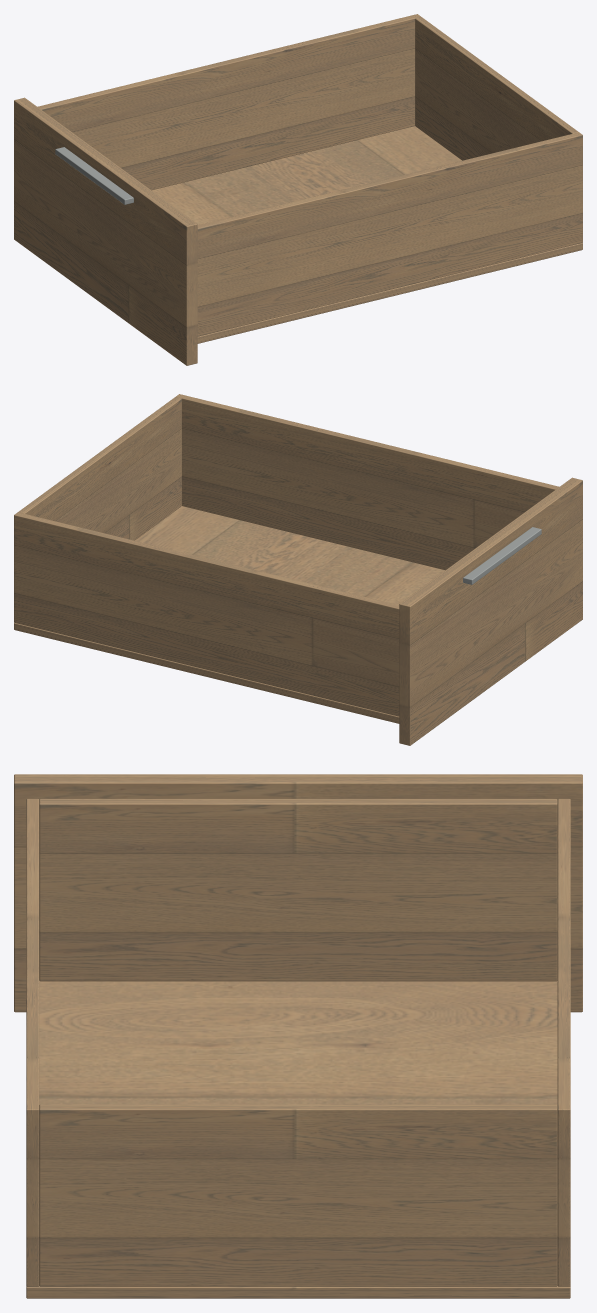
The model's file is island_drawer_2_0.glb.
3 renders of one model, top to bottom at view 1: azimuth 30°, elevation 25°; view 2: azimuth 150°, elevation 25°; view 3: azimuth 270°, elevation 25°, orthographic. The views are drawn at different scales.
Visible parts, largest first — view 1: island_drawer_2_0, island_drawer_2_0_bin_0_side_-1, island_drawer_2_0_front, island_drawer_2_0_bin_0_floor, island_drawer_2_0_pull; view 2: island_drawer_2_0, island_drawer_2_0_bin_0_side_-1, island_drawer_2_0_front, island_drawer_2_0_bin_0_floor, island_drawer_2_0_pull; view 3: island_drawer_2_0, island_drawer_2_0_bin_0_end_-1, island_drawer_2_0_bin_0_floor, island_drawer_2_0_front, island_drawer_2_0_bin_0_side_-1.
Part boxes in pixels (x1=…): island_drawer_2_0: x1=37, y1=14, x2=578, y2=190; island_drawer_2_0_bin_0_side_-1: x1=197, y1=132, x2=582, y2=336; island_drawer_2_0_front: x1=14, y1=97, x2=197, y2=365; island_drawer_2_0_bin_0_floor: x1=152, y1=126, x2=582, y2=343; island_drawer_2_0_pull: x1=55, y1=147, x2=133, y2=204; island_drawer_2_0: x1=14, y1=397, x2=399, y2=716; island_drawer_2_0_bin_0_side_-1: x1=176, y1=394, x2=559, y2=570; island_drawer_2_0_front: x1=399, y1=477, x2=582, y2=745; island_drawer_2_0_bin_0_floor: x1=14, y1=506, x2=444, y2=723; island_drawer_2_0_pull: x1=463, y1=527, x2=541, y2=584; island_drawer_2_0: x1=39, y1=798, x2=570, y2=1286; island_drawer_2_0_bin_0_end_-1: x1=39, y1=798, x2=557, y2=981; island_drawer_2_0_bin_0_floor: x1=26, y1=981, x2=570, y2=1298; island_drawer_2_0_front: x1=14, y1=774, x2=582, y2=1012; island_drawer_2_0_bin_0_side_-1: x1=26, y1=798, x2=39, y2=1286.
Bounding box in the file's own units: 0.954 × 0.31 × 0.696.
2 materials, 1 textured.
